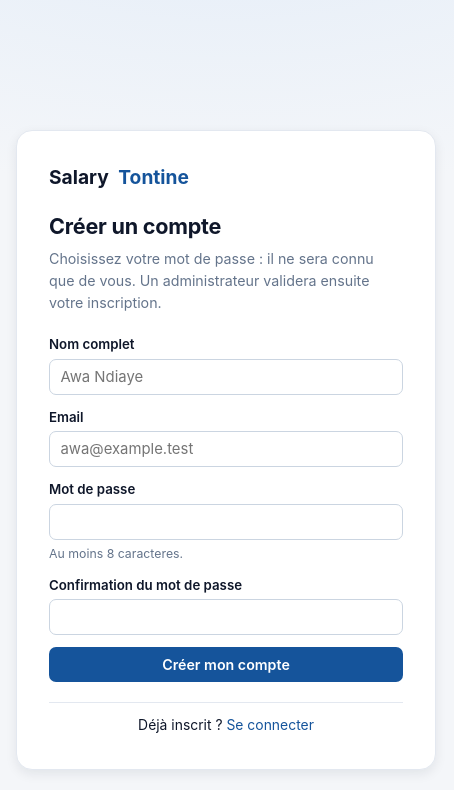
Test: RegisterPage › annonce l'attente de validation au lieu de connecter l'utilisateur
This screenshot has width=454, height=790.
Type "Ndeye Diagne" into the field labelled "Nom complet" at [226, 376], box [49,358,403,394]
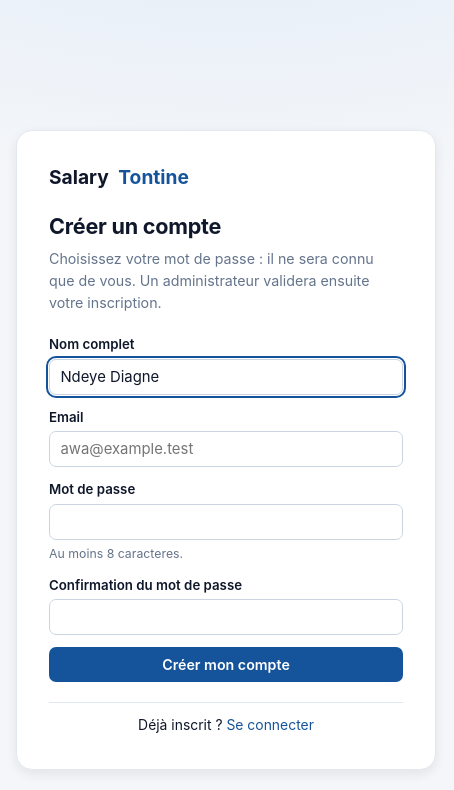
Type "ndeye@salarytontine.test" into the field labelled "Email" at [226, 449], box [49,431,403,467]
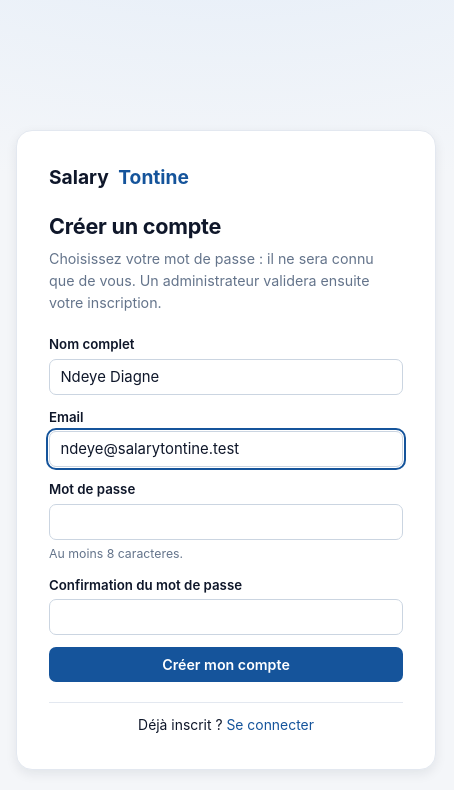
Type "MotDePasse123" into the password field labelled "Mot de passe" at [226, 522], box [49,504,403,540]
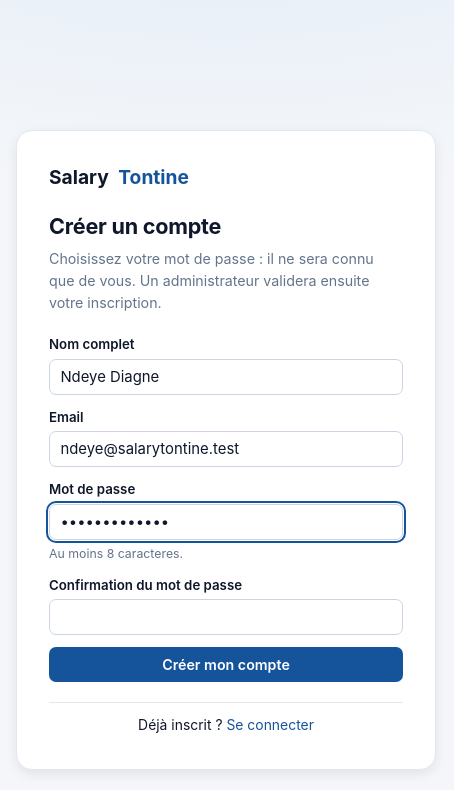
Type "MotDePasse123" into the password field labelled "Confirmation du mot de passe" at [226, 617], box [49,599,403,635]
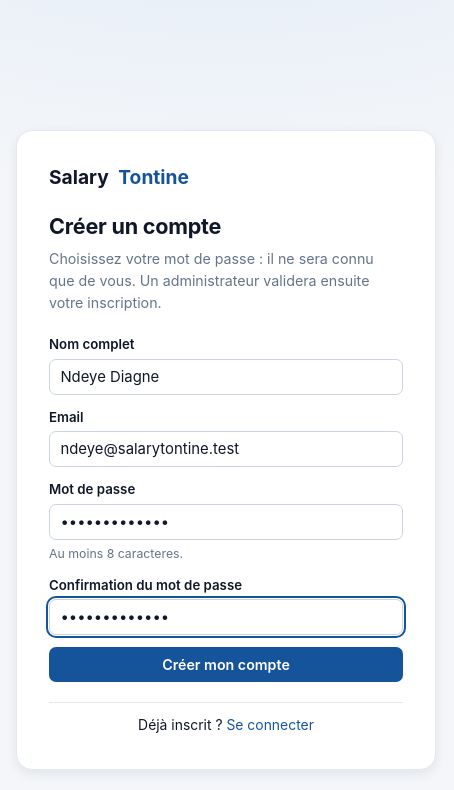
Click the button "Créer mon compte" at [226, 665], box [49,647,403,682]
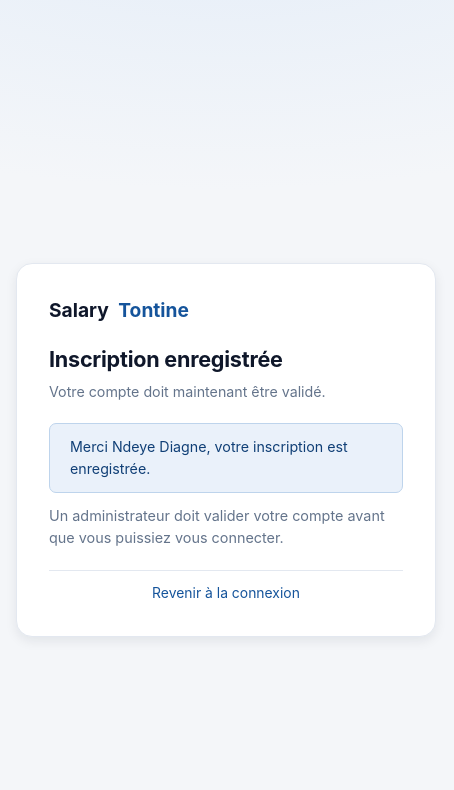
Expected: the text "Merci Ndeye Diagne, votre inscription est enregistrée." is shown, [49,423,403,493]
